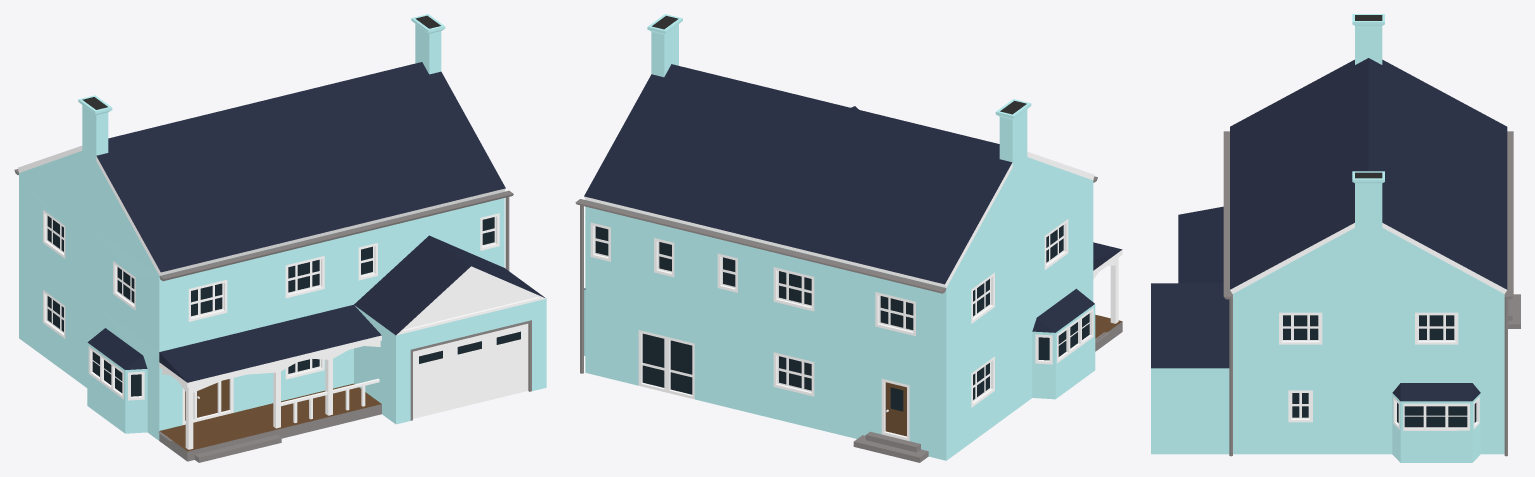
File: building-house-family-large.glb
The picture shows the model from 3 angles, left to right: view 1: azimuth 30°, elevation 25°; view 2: azimuth 150°, elevation 25°; view 3: azimuth 270°, elevation 25°; orthographic projection. The views are drawn at different scales.
Visible parts, largest first — view 1: building-house-family-large; view 2: building-house-family-large; view 3: building-house-family-large.
Part boxes in pixels (box(x1,y1,x2,y2)): building-house-family-large: box(14, 14, 546, 462); building-house-family-large: box(575, 14, 1122, 462); building-house-family-large: box(1151, 14, 1520, 462).
Size of the model in its own units: 15.68 by 11.2 by 13.6.
1 material, 1 textured.
